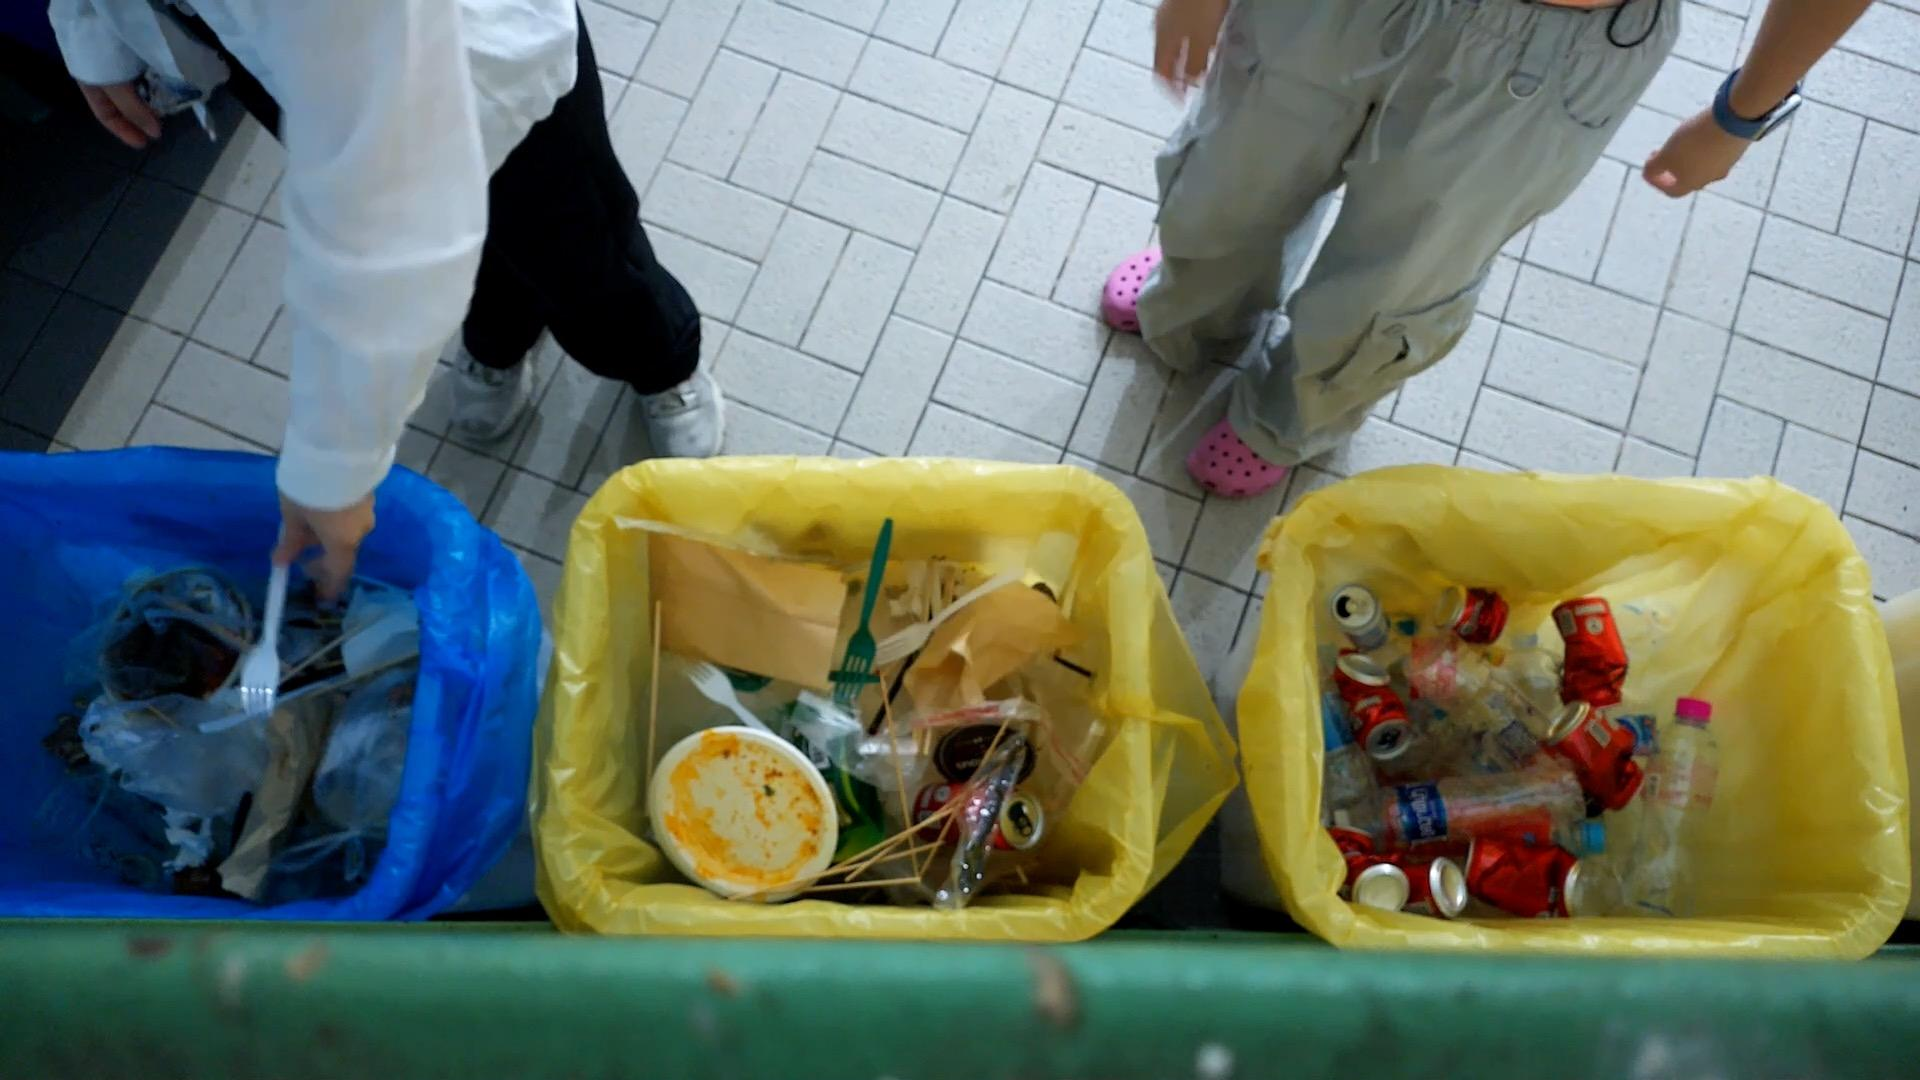can: (1534, 699, 1646, 800), (913, 778, 1048, 853), (1462, 841, 1588, 920), (1547, 595, 1629, 711), (1327, 822, 1408, 915), (1379, 861, 1473, 924), (1427, 582, 1509, 650), (1333, 654, 1400, 717), (1329, 584, 1391, 653), (1357, 699, 1425, 758)
dirty food container: (644, 728, 839, 901)
filled plastic bag: (268, 659, 422, 881)
paper bag: (647, 527, 848, 690), (214, 690, 331, 899), (902, 574, 1065, 711)
plastic bottle: (1602, 695, 1720, 918), (1336, 770, 1588, 847)
plastic cup: (21, 767, 187, 895)
plastic cutlery: (225, 512, 290, 719), (865, 579, 1005, 669), (828, 516, 889, 699), (684, 658, 762, 727)
sticks: (845, 745, 1029, 882), (919, 688, 1019, 882), (728, 837, 943, 903), (870, 663, 923, 882), (305, 645, 426, 700), (642, 596, 665, 815), (736, 873, 918, 898)
